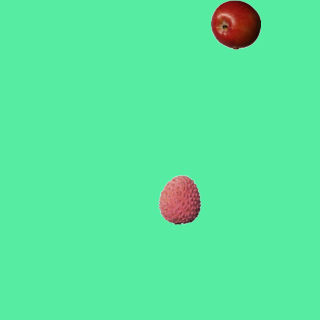Apple Braeburn: (210, 0, 260, 49)
Lychee: (154, 174, 204, 224)
